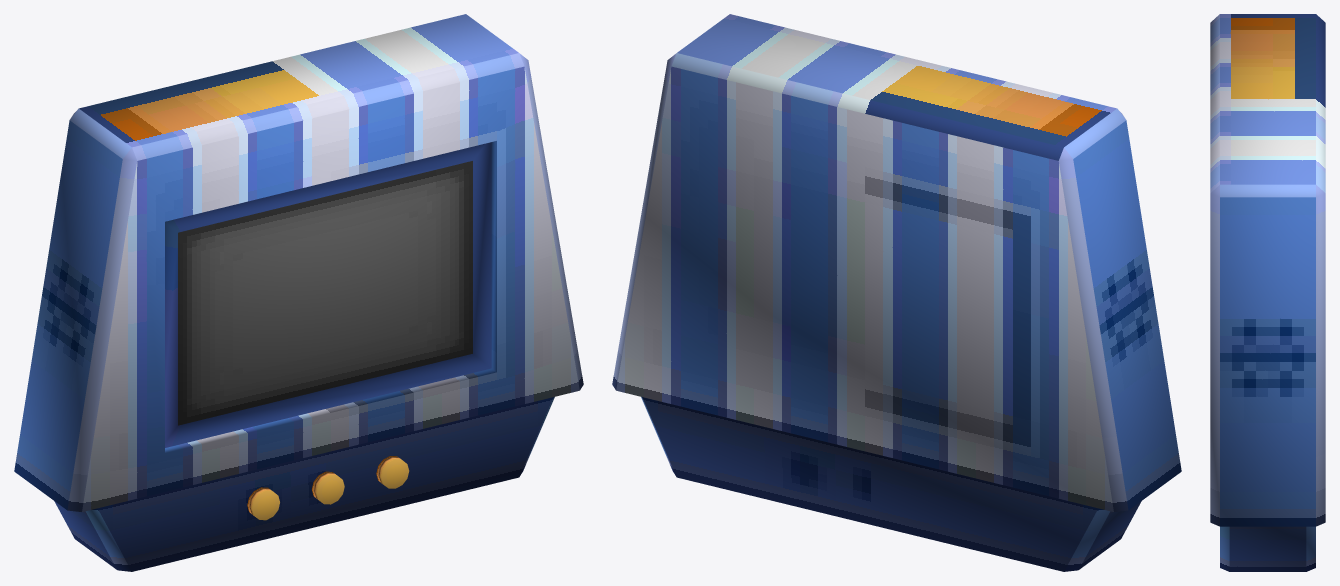
The model's file is rmk_str_tv.dae.
3 views of the same model, side by side, from view 1: azimuth 30°, elevation 25°; view 2: azimuth 150°, elevation 25°; view 3: azimuth 270°, elevation 25° (orthographic). The views are drawn at different scales.
Parts seen in each view (by area): view 1: rmk_str_tv; view 2: rmk_str_tv; view 3: rmk_str_tv.
Part boxes in pixels (x1,y1,x2,y2): rmk_str_tv: [14, 14, 583, 571]; rmk_str_tv: [612, 14, 1181, 571]; rmk_str_tv: [1210, 14, 1325, 571].
Bounding box in the file's own units: 28 × 22 × 6.
Materials: 2 (2 with a texture image).
